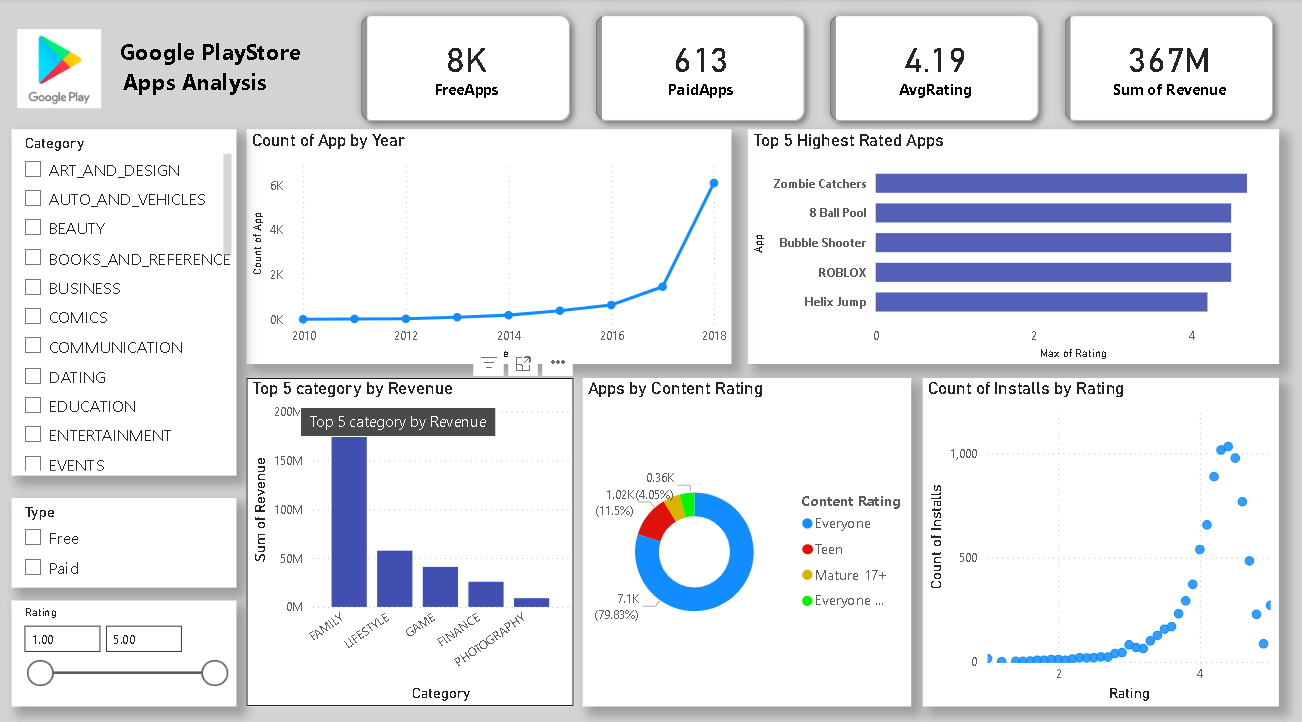

This screenshot's page, from the dashboard's own definition file:
{"tool":"powerbi","page":{"name":"Page 1","canvas":[1280,720],"ordinal":0},"visuals":[{"type":"cardVisual","fields":{"Data":["Play Store Data Cleaned.FreeApps","Play Store Data Cleaned.PaidApps","Play Store Data Cleaned.AvgRating","Sum(Play Store Data Cleaned.Revenue)"]},"box":[338.7,0,932.5,138.7],"z":0},{"type":"clusteredBarChart","title":"Top 5 Highest Rated Apps","fields":{"Category":["Play Store Data Cleaned.App"],"Y":["Max(Play Store Data Cleaned.Rating)"]},"box":[735,128.8,521.5,230.7],"z":1000},{"type":"lineChart","fields":{"Category":["Play Store Data Cleaned.Year"],"Y":["CountNonNull(Play Store Data Cleaned.App)"]},"box":[242.9,128.8,476.1,230.7],"z":2000},{"type":"donutChart","title":"Apps by Content Rating","fields":{"Category":["Play Store Data Cleaned.Content Rating"],"Y":["CountNonNull(Play Store Data Cleaned.App)"]},"box":[573,373,322.7,322.7],"z":3000},{"type":"scatterChart","fields":{"X":["Play Store Data Cleaned.Rating"],"Y":["CountNonNull(Play Store Data Cleaned.Installs)"]},"box":[906.8,373,349.7,322.7],"z":4000},{"type":"slicer","fields":{"Values":["Play Store Data Cleaned.Category"]},"box":[12.3,128.8,220.9,339.9],"z":5000},{"type":"slicer","fields":{"Values":["Play Store Data Cleaned.Type"]},"box":[12.3,490.8,220.9,88.3],"z":6000},{"type":"slicer","fields":{"Values":["Play Store Data Cleaned.Rating"]},"box":[12.3,591.4,220.9,104.3],"z":7000},{"type":"textbox","box":[105.5,31.9,206.1,76.1],"z":8000},{"type":"image","box":[12.3,25.8,93.3,87.1],"z":9000},{"type":"columnChart","title":"Top 5 category by Revenue","fields":{"Category":["Play Store Data Cleaned.Category"],"Y":["Sum(Play Store Data Cleaned.Revenue)"]},"box":[242.9,373,321.5,322.7],"z":9001}]}

Visuals, with their boxes in screenshot pixels (x1, y1, x2, y2), scaled from the page's 1280x720 canvas onto the 1302x722 screenshot:
cardVisual - Play Store Data Cleaned.FreeApps x Play Store Data Cleaned.PaidApps: x1=345 y1=0 x2=1293 y2=139
"Top 5 Highest Rated Apps" clusteredBarChart: x1=748 y1=129 x2=1278 y2=360
lineChart - Play Store Data Cleaned.Year x CountNonNull(Play Store Data Cleaned.App): x1=247 y1=129 x2=731 y2=360
"Apps by Content Rating" donutChart: x1=583 y1=374 x2=911 y2=698
scatterChart - Play Store Data Cleaned.Rating x CountNonNull(Play Store Data Cleaned.Installs): x1=922 y1=374 x2=1278 y2=698
slicer - Play Store Data Cleaned.Category: x1=13 y1=129 x2=237 y2=470
slicer - Play Store Data Cleaned.Type: x1=13 y1=492 x2=237 y2=581
slicer - Play Store Data Cleaned.Rating: x1=13 y1=593 x2=237 y2=698
textbox: x1=107 y1=32 x2=317 y2=108
image: x1=13 y1=26 x2=107 y2=113
"Top 5 category by Revenue" columnChart: x1=247 y1=374 x2=574 y2=698
